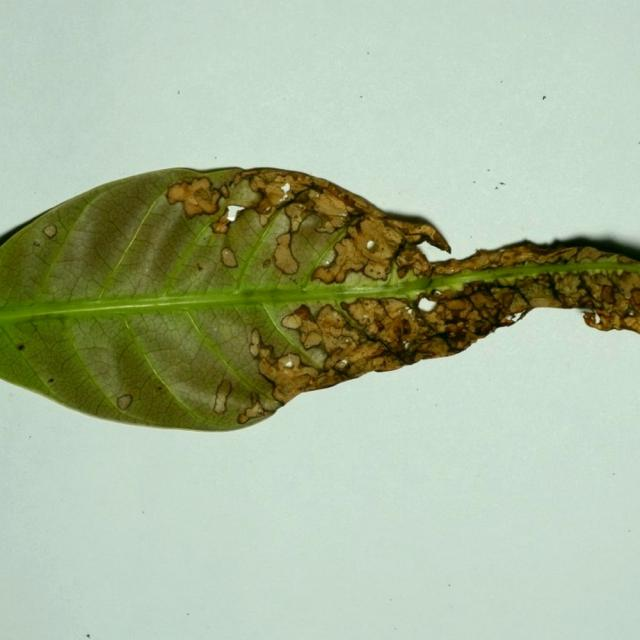Anthracnose: (2, 176, 261, 422), (5, 268, 627, 321), (220, 196, 369, 377), (118, 306, 274, 422), (1, 186, 101, 304), (376, 257, 634, 297), (4, 314, 107, 414), (161, 194, 257, 297), (105, 187, 184, 296), (8, 289, 251, 323), (69, 320, 145, 411), (124, 311, 211, 372), (259, 301, 330, 372), (268, 201, 327, 277), (100, 364, 178, 417), (427, 243, 552, 276), (304, 216, 358, 285), (207, 187, 277, 235), (331, 302, 390, 356), (493, 259, 623, 282), (211, 210, 259, 271), (298, 276, 417, 300), (220, 211, 269, 268), (330, 343, 405, 378), (364, 252, 418, 297), (1, 316, 35, 386), (3, 295, 82, 325), (359, 319, 413, 362), (151, 267, 207, 304), (352, 217, 399, 261), (74, 344, 123, 381), (384, 229, 416, 279), (21, 321, 59, 357), (408, 335, 455, 363), (228, 178, 265, 208), (311, 191, 350, 218), (429, 255, 478, 276), (322, 346, 359, 372), (28, 241, 61, 270), (554, 272, 588, 300), (517, 281, 554, 306), (310, 369, 347, 390), (337, 291, 376, 310), (381, 253, 400, 292), (227, 204, 263, 224), (212, 203, 236, 229), (296, 212, 322, 234), (311, 264, 339, 284), (197, 166, 239, 179), (524, 295, 562, 309), (307, 345, 329, 368), (507, 294, 530, 314), (166, 183, 189, 203), (581, 266, 616, 279), (277, 353, 302, 371), (573, 247, 602, 262), (260, 395, 282, 412), (364, 264, 387, 279), (213, 392, 229, 413), (417, 297, 438, 313), (339, 300, 361, 315), (194, 187, 213, 204), (505, 310, 528, 323), (401, 333, 415, 352), (497, 275, 519, 287), (365, 241, 383, 255), (115, 399, 131, 414), (250, 328, 261, 349), (258, 212, 271, 227), (581, 308, 600, 317), (226, 208, 239, 221), (397, 264, 409, 278), (186, 195, 199, 207), (299, 279, 309, 293), (335, 359, 348, 369), (323, 254, 333, 266), (624, 290, 633, 300), (342, 337, 352, 345), (338, 212, 348, 218), (616, 269, 624, 276), (33, 240, 40, 246), (145, 266, 150, 273)
Mango: (0, 166, 639, 435)
